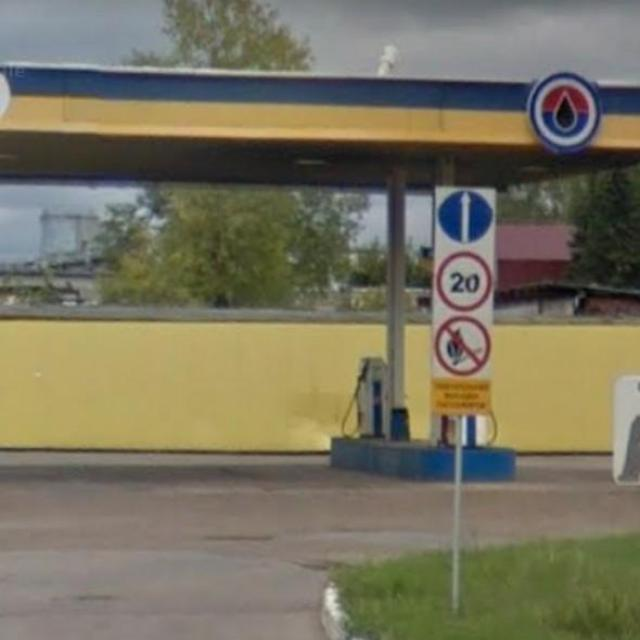speed_limit_20: (433, 247, 497, 316)
